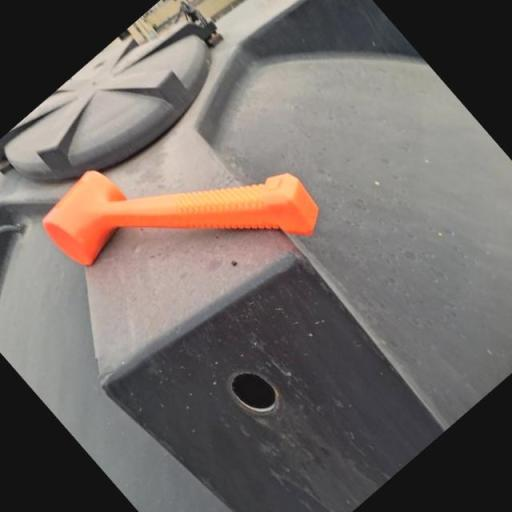mallet: (38, 74, 328, 359)
